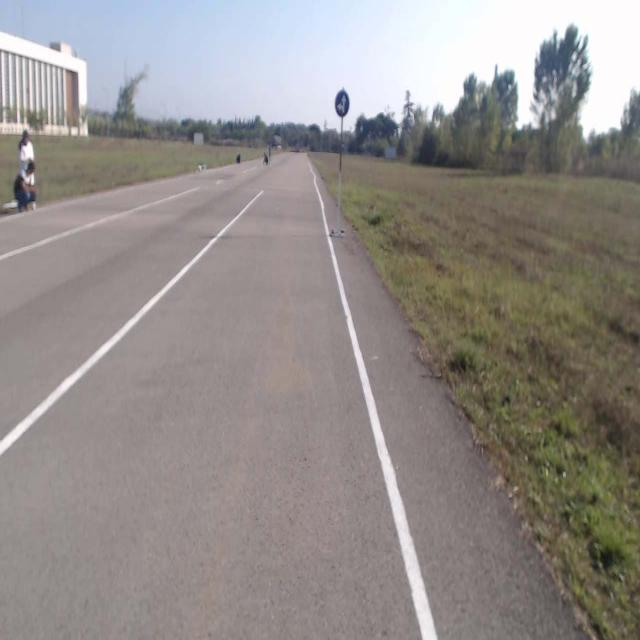ilerisol: (336, 89, 348, 118)
